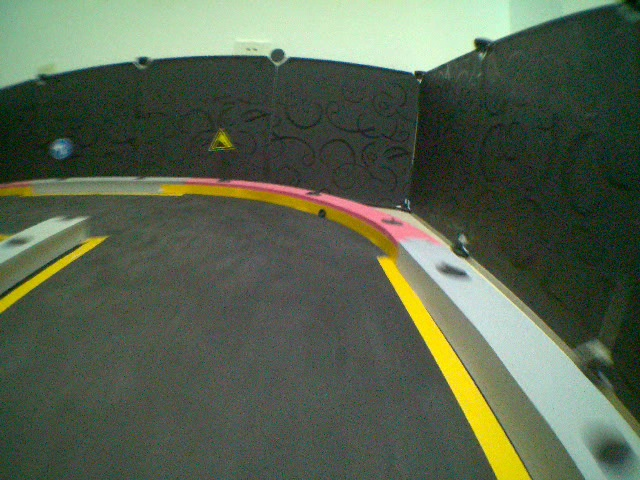fast: (204, 127, 236, 152)
turn: (48, 137, 73, 161)
